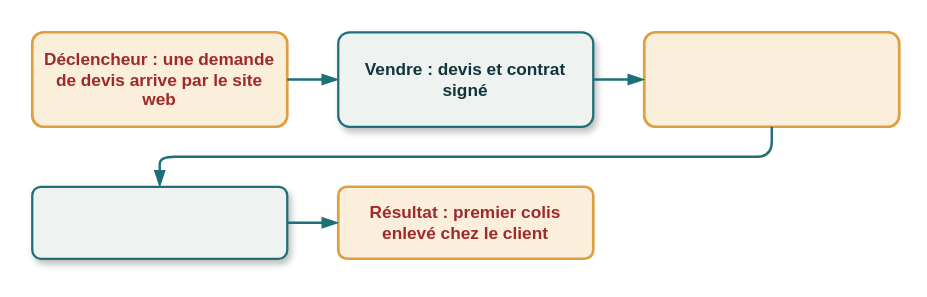
The diagram is 927 pixels wide and 297 high, and some of its shapes have lost their labels. Each missing label, with the centre of its shape:
Créer le client : ERP finance et portail B2B: [771,78]
Enregistrer le premier ordre dans RoutePro: [160,224]
